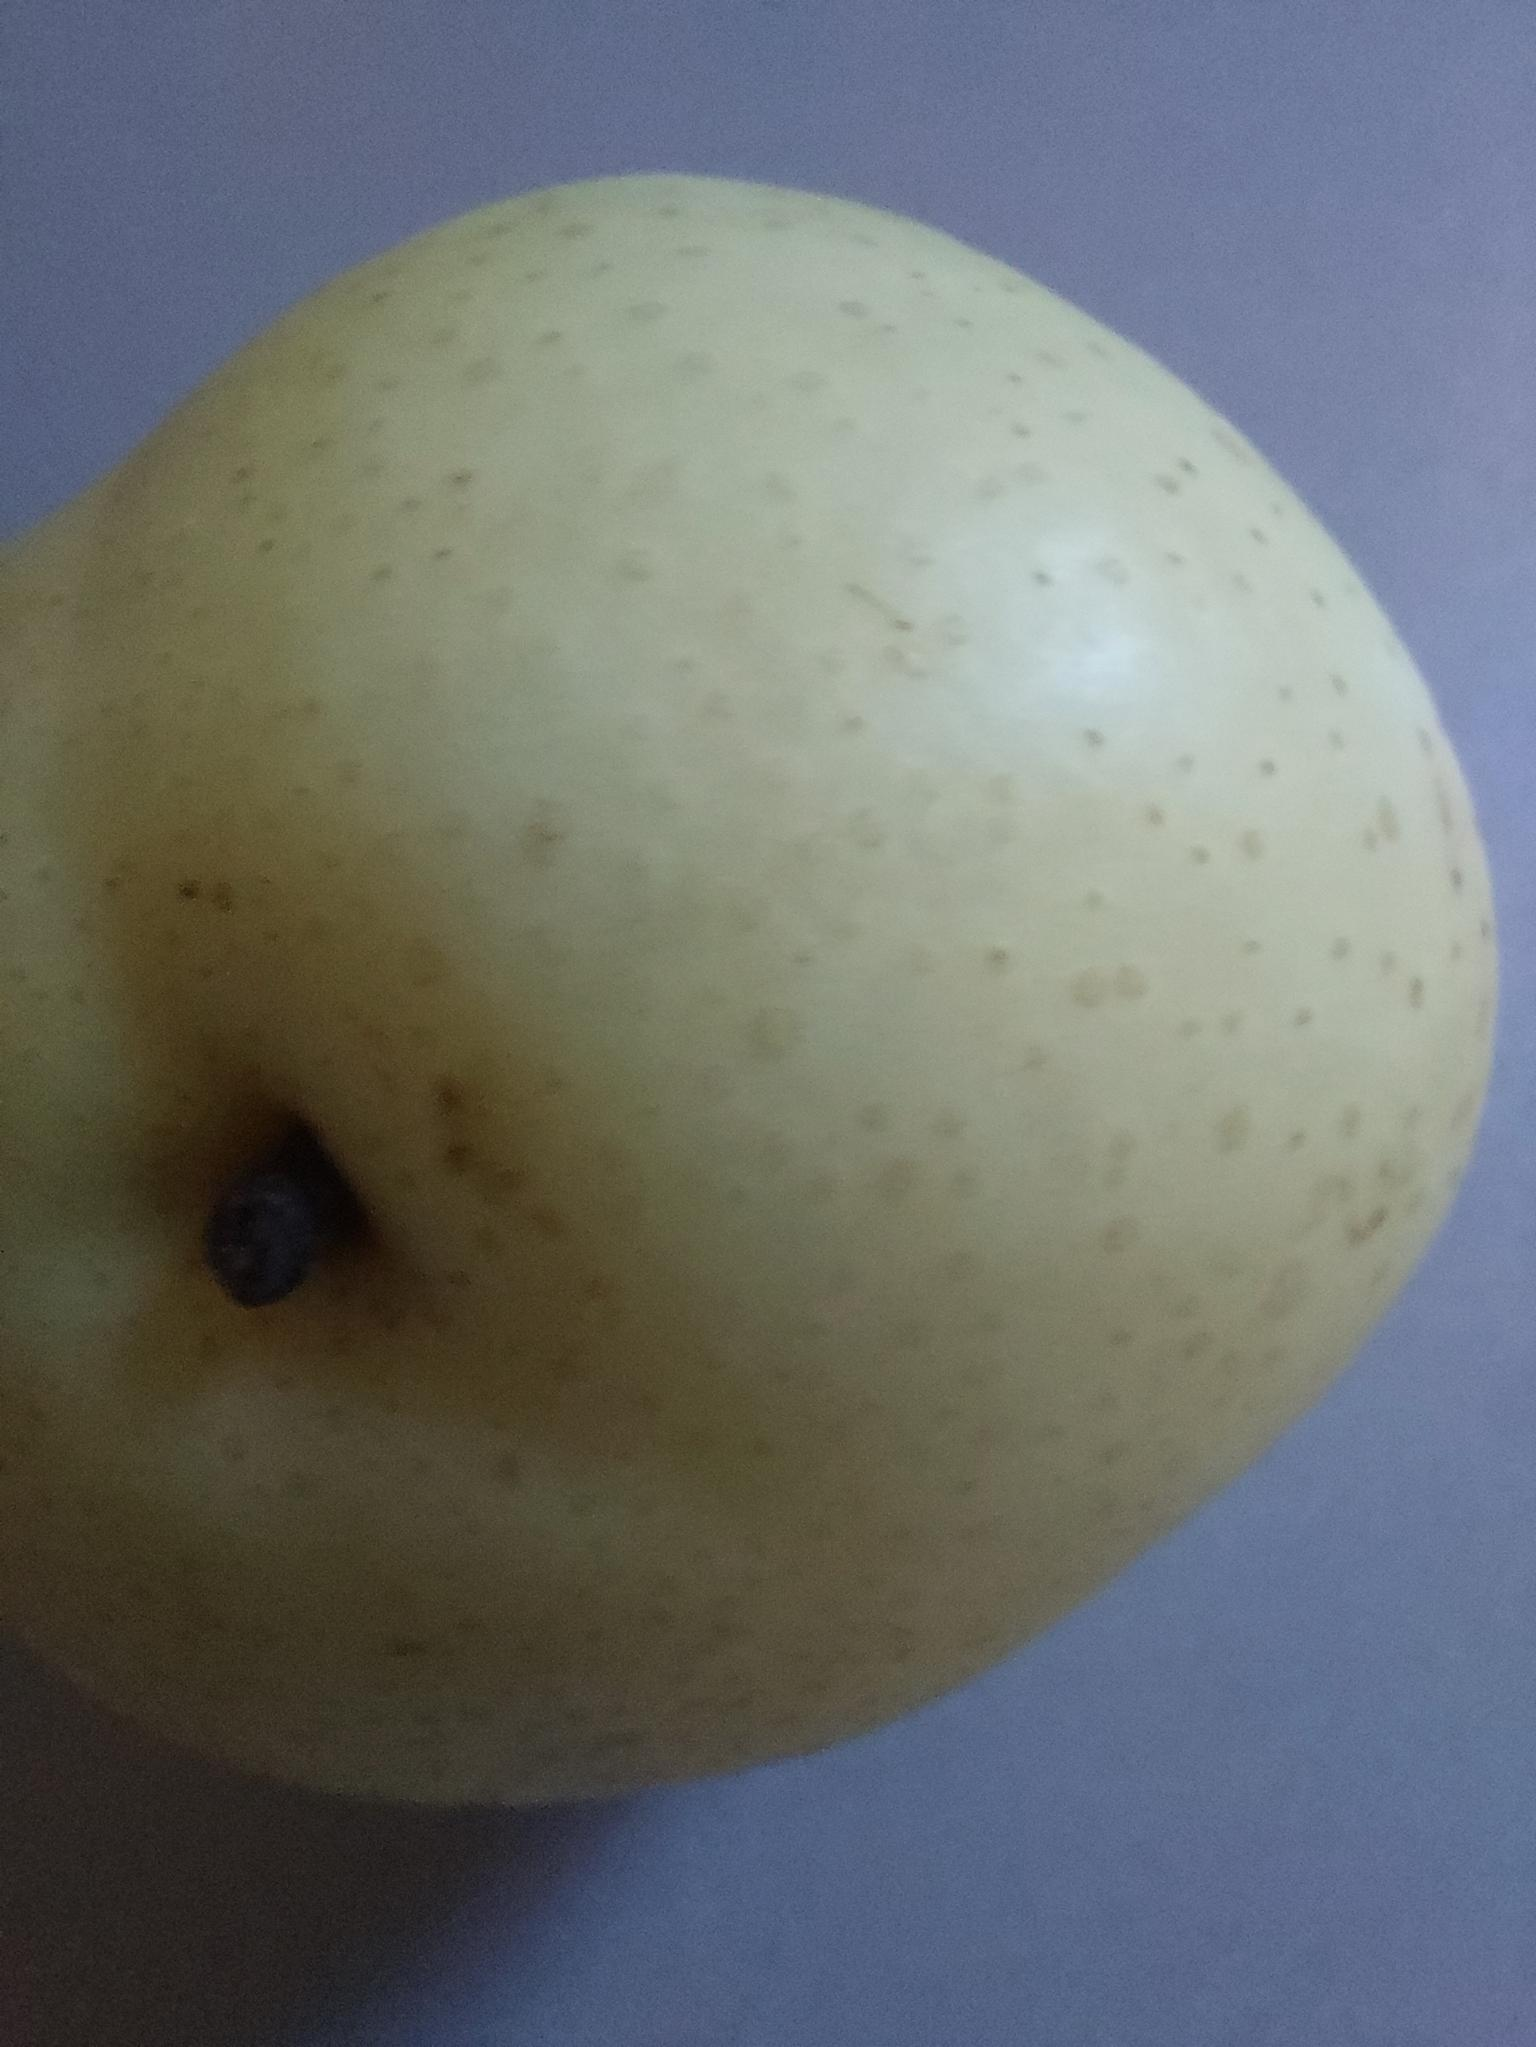Good Pear: (0, 165, 1496, 1818)
